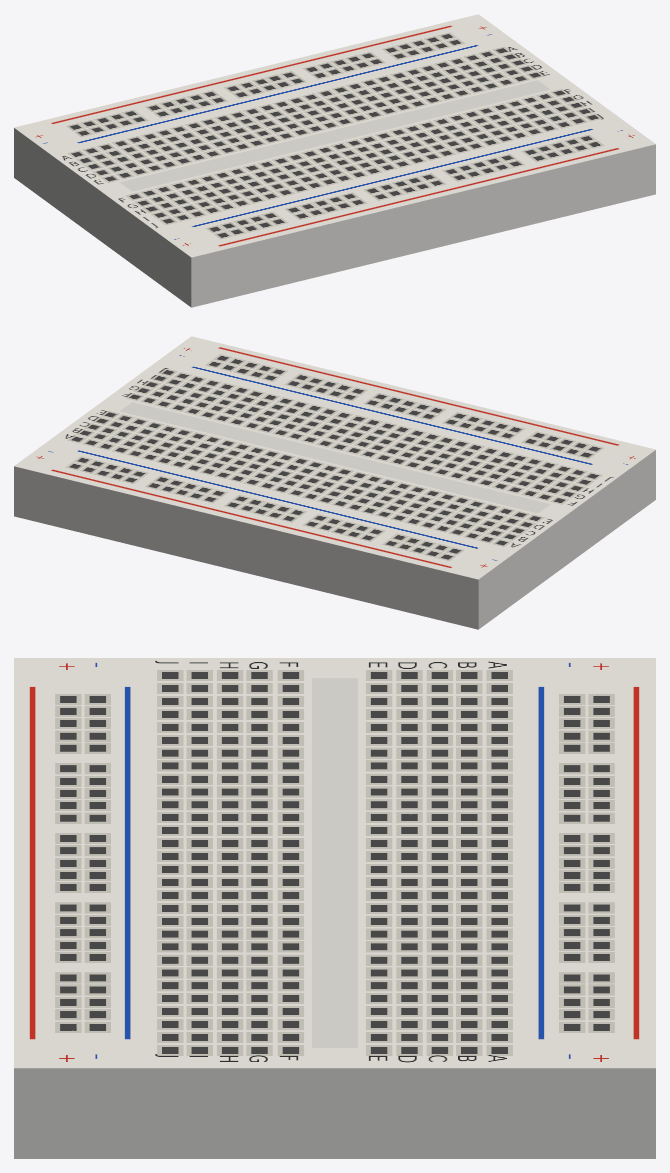
File: Protoboard_400.glb
3 views of the same model, one above another, from view 1: azimuth 30°, elevation 25°; view 2: azimuth 150°, elevation 25°; view 3: azimuth 270°, elevation 25° (orthographic). The views are drawn at different scales.
Visible parts, largest first — view 1: Protoboard_400; view 2: Protoboard_400; view 3: Protoboard_400.
Boxes of the visible parts, box(x1,y1,x2,y2) form: Protoboard_400: box(14, 14, 655, 307); Protoboard_400: box(14, 336, 655, 629); Protoboard_400: box(14, 658, 655, 1158).
Bounding box in the file's own units: 0.0825 × 0.00853 × 0.0546.
2 materials, 1 textured.
